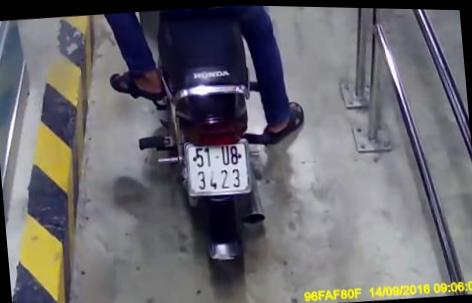LP: (180, 132, 255, 201)
